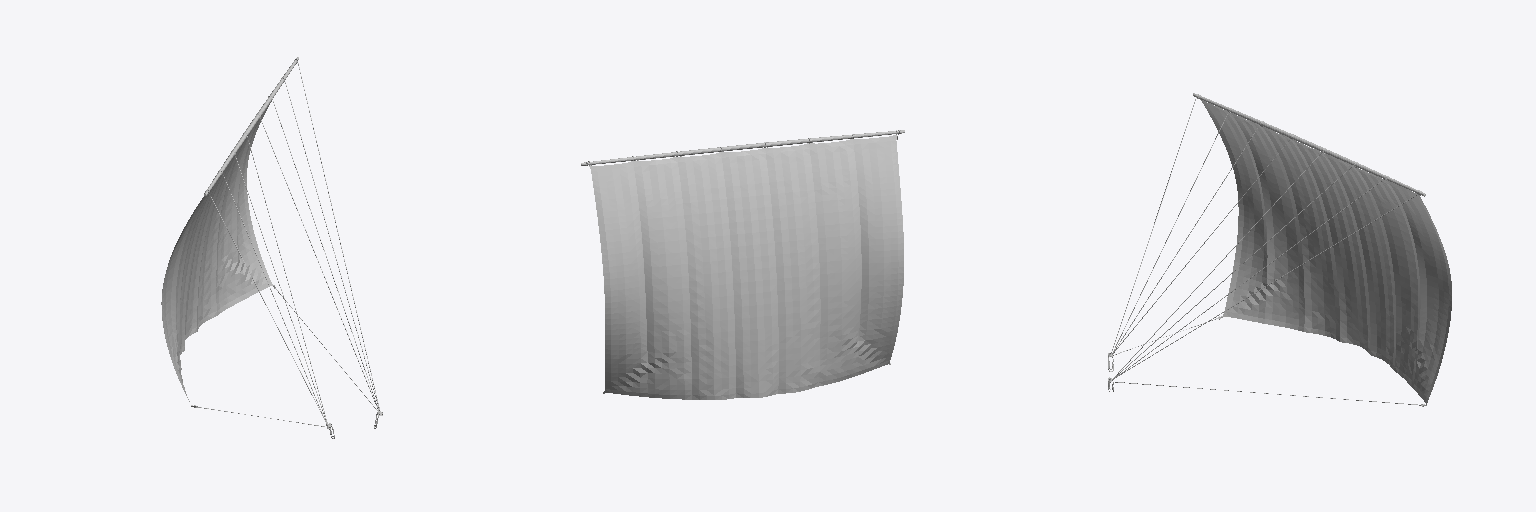
Rendered from cloth.obj.
The picture shows the model from 3 angles: view 1: azimuth 30°, elevation 25°; view 2: azimuth 150°, elevation 25°; view 3: azimuth 270°, elevation 25°; orthographic projection.
Visible parts, largest first — view 1: HB_Sail, HB_Running_Rigging, HB_Yard; view 2: HB_Sail, HB_Yard; view 3: HB_Sail, HB_Running_Rigging, HB_Yard.
Part boxes in pixels (bbox=[...]): HB_Sail: bbox=[161, 101, 272, 401]; HB_Running_Rigging: bbox=[191, 63, 382, 438]; HB_Yard: bbox=[204, 57, 298, 195]; HB_Sail: bbox=[589, 135, 903, 399]; HB_Yard: bbox=[581, 130, 904, 165]; HB_Sail: bbox=[1200, 99, 1451, 404]; HB_Running_Rigging: bbox=[1108, 97, 1426, 406]; HB_Yard: bbox=[1193, 93, 1425, 196].
Size of the model in its own units: 4.48 by 4.44 by 5.79.